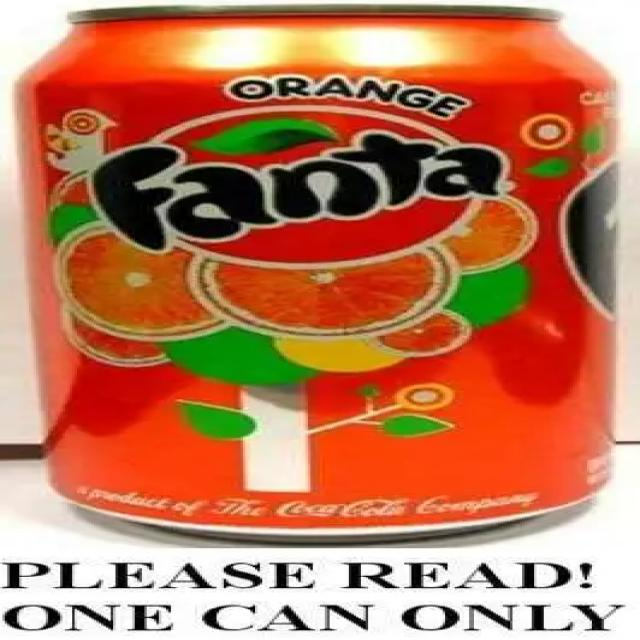fanta: (28, 0, 630, 548)
